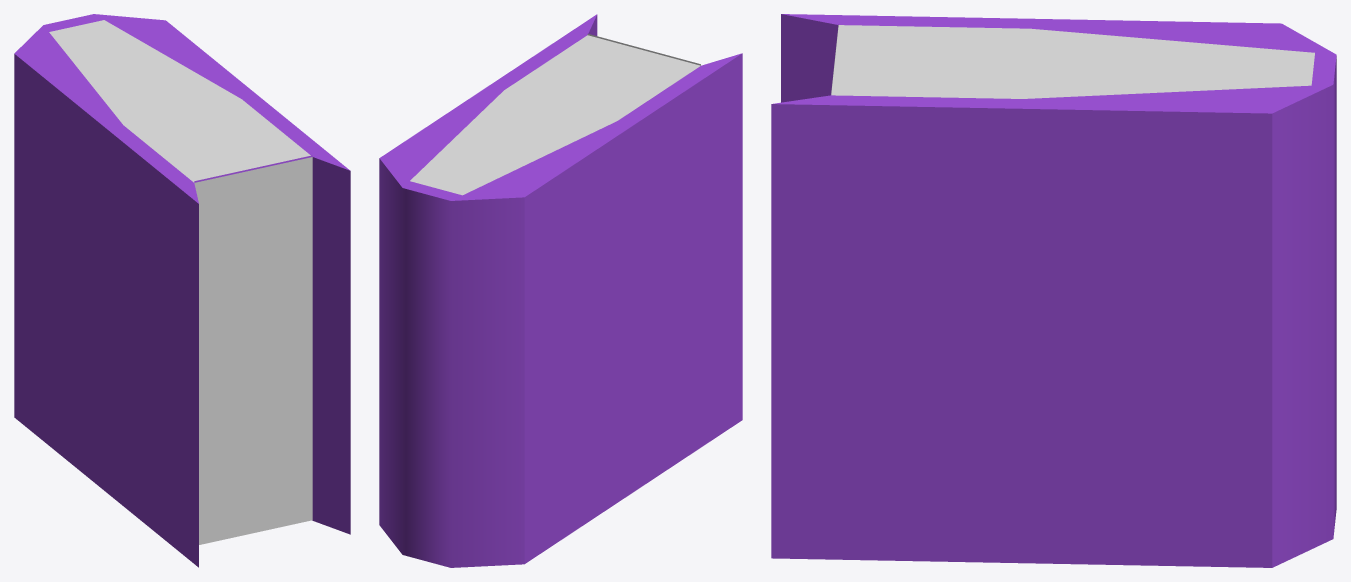
The model's file is Book(Purple).fbx.
3 renders of one model, left to right at view 1: azimuth 30°, elevation 25°; view 2: azimuth 150°, elevation 25°; view 3: azimuth 270°, elevation 25°, orthographic. The views are drawn at different scales.
Visible parts, largest first — view 1: Book_Purple; view 2: Book_Purple; view 3: Book_Purple.
Boxes of the visible parts, x1,y1,x2,y2 form: Book_Purple: [14, 14, 350, 567]; Book_Purple: [379, 14, 742, 567]; Book_Purple: [771, 14, 1336, 567].
Size of the model in its own units: 0.1932 by 0.4128 by 0.4635.
